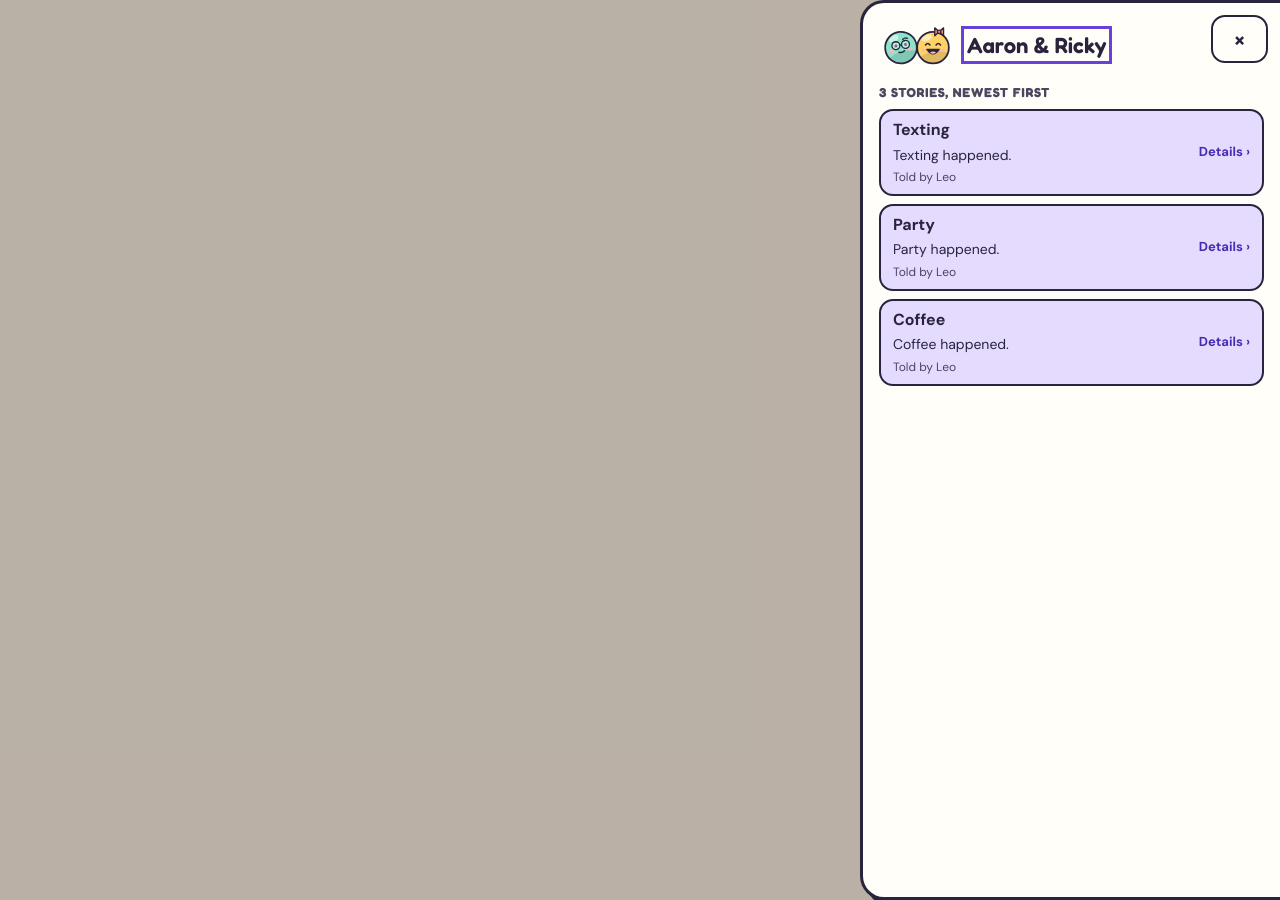
Test: DetailSheet › opens a story as the usual StoryCard; Escape closes the card and keeps the sheet
Click the button "Texting Texting happened. Told by Leo Details ›": {"x": 922, "y": 130} left=879, top=109, right=1264, bottom=196
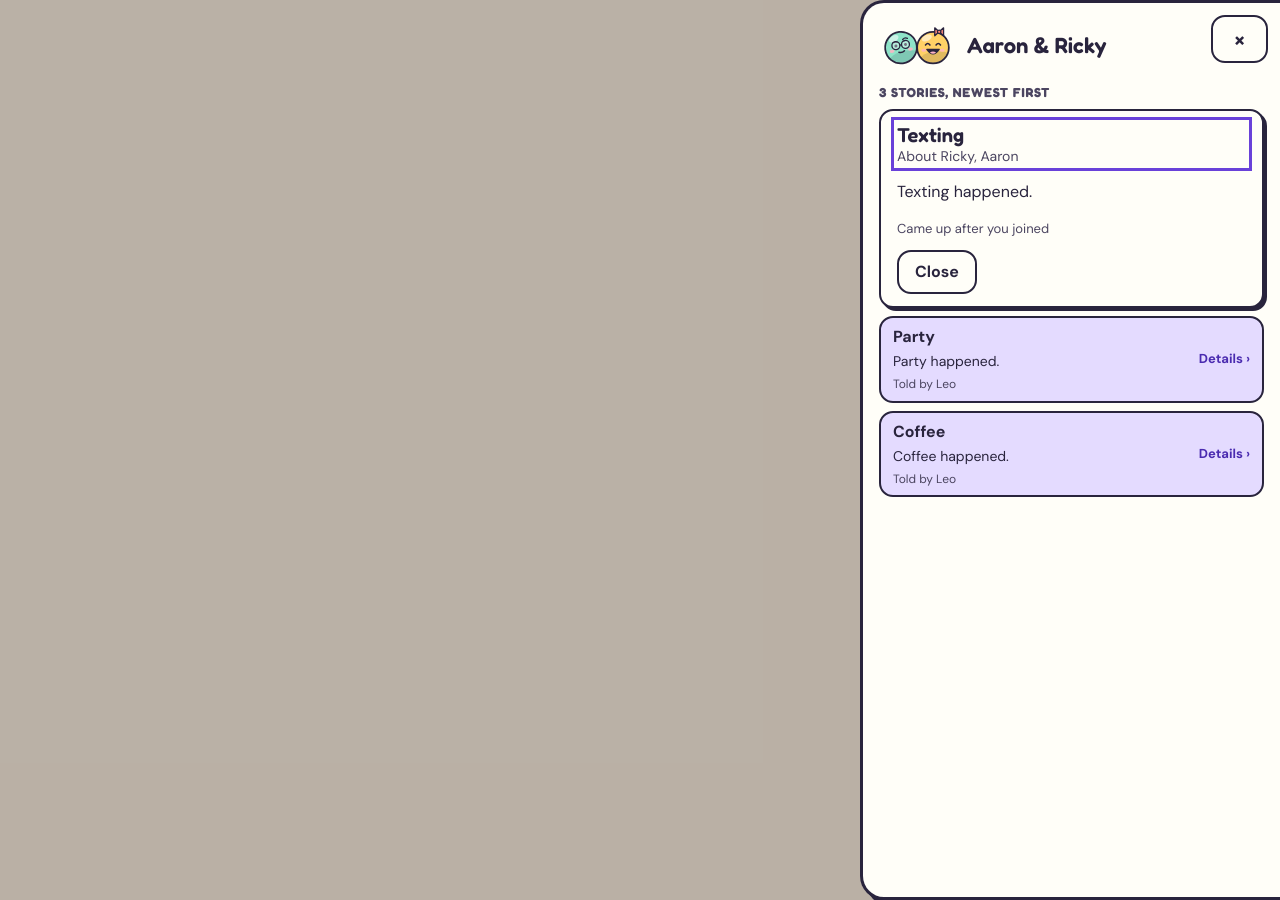
Check: the dialog with class "story-card" shows "Texting happened.", box left=897, top=181, right=1032, bottom=202
Press Escape in the dialog with class "story-card", box left=879, top=109, right=1264, bottom=308
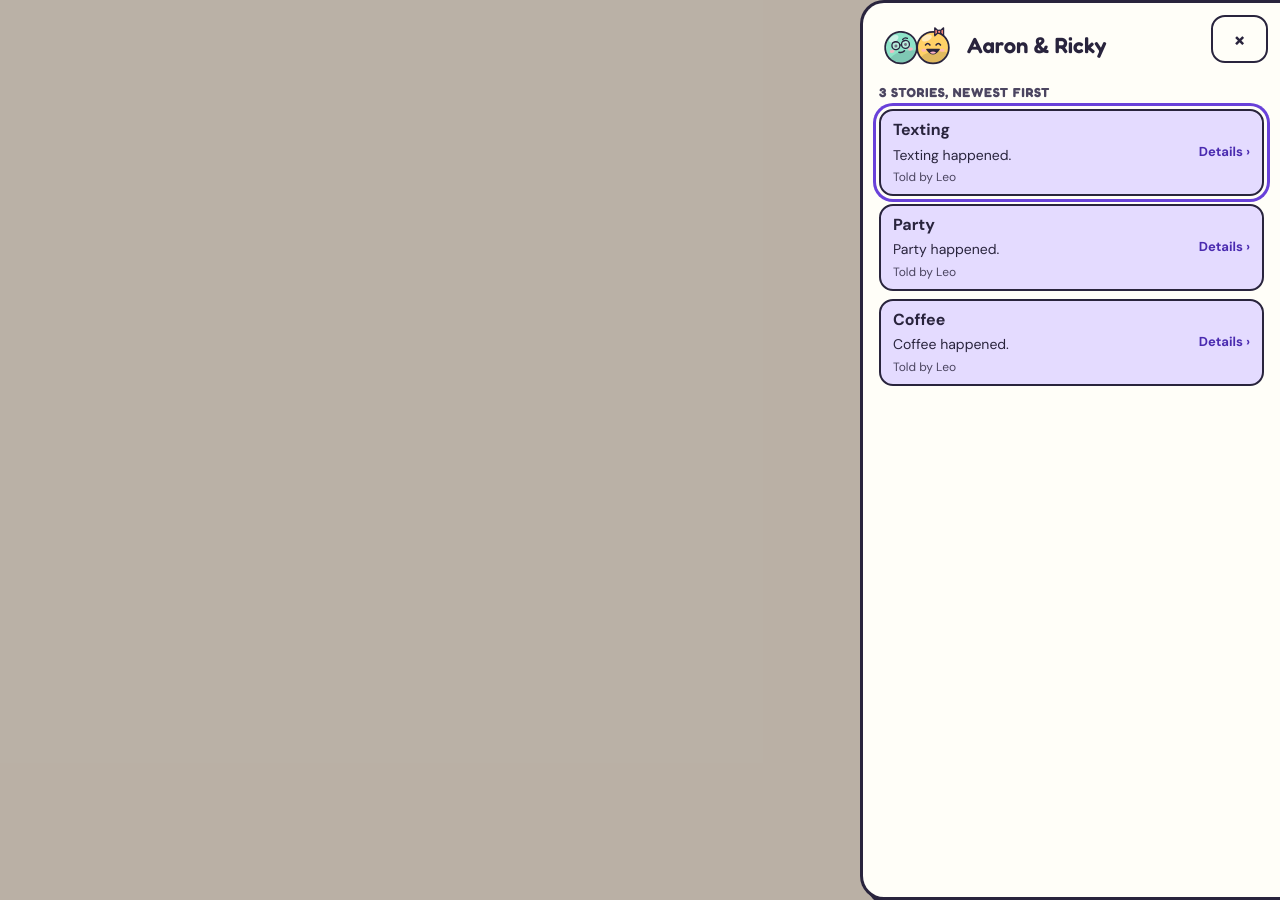
Check: the dialog with class "story-card" is gone
